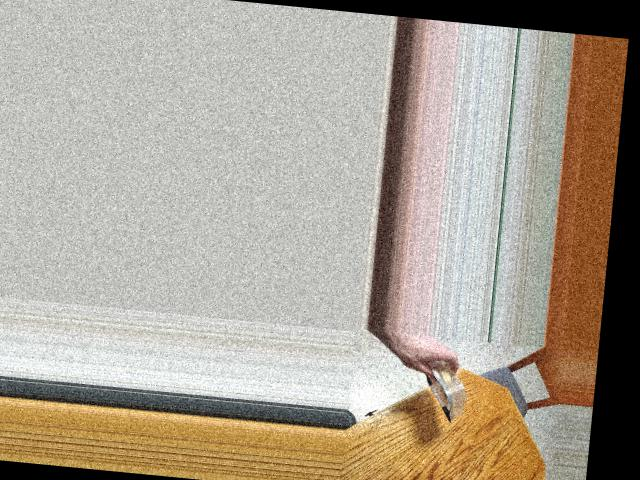cheese: (399, 342, 487, 411)
